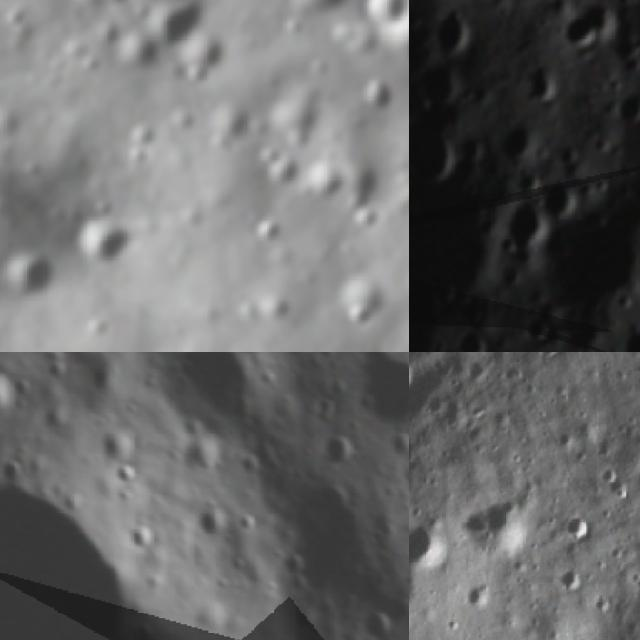crater: (0, 463, 137, 640), (343, 352, 409, 440), (455, 478, 530, 553), (328, 266, 384, 337), (554, 0, 611, 64), (145, 0, 209, 55), (409, 118, 458, 186), (76, 218, 136, 272), (501, 194, 552, 256), (0, 254, 59, 297), (493, 122, 547, 166), (540, 172, 588, 221), (177, 436, 224, 486), (413, 62, 461, 108), (428, 4, 469, 55), (304, 162, 348, 204), (352, 78, 394, 120), (319, 435, 361, 477), (522, 62, 560, 106), (356, 599, 395, 640), (514, 310, 556, 348), (198, 504, 232, 550), (451, 290, 488, 332), (381, 11, 409, 65), (246, 212, 281, 251), (559, 511, 597, 546), (260, 156, 300, 188), (0, 366, 20, 428), (459, 130, 492, 167), (451, 323, 490, 352), (612, 85, 640, 125), (88, 196, 116, 220), (236, 352, 273, 363)
